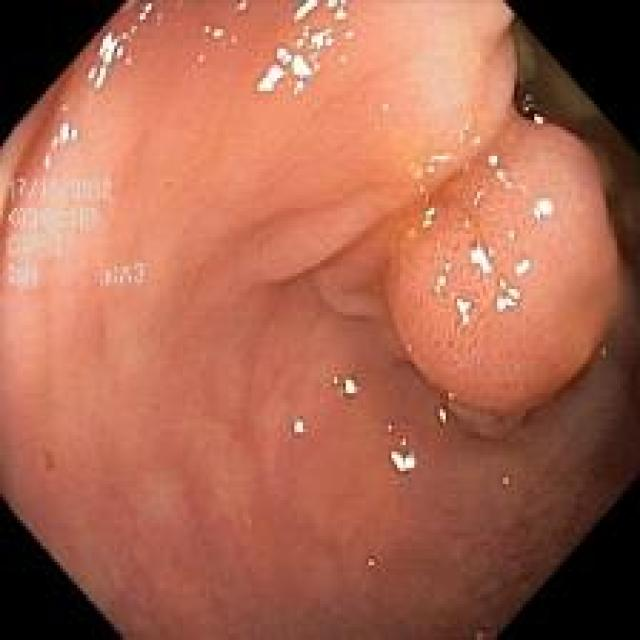Polyps: (386, 118, 621, 429)
